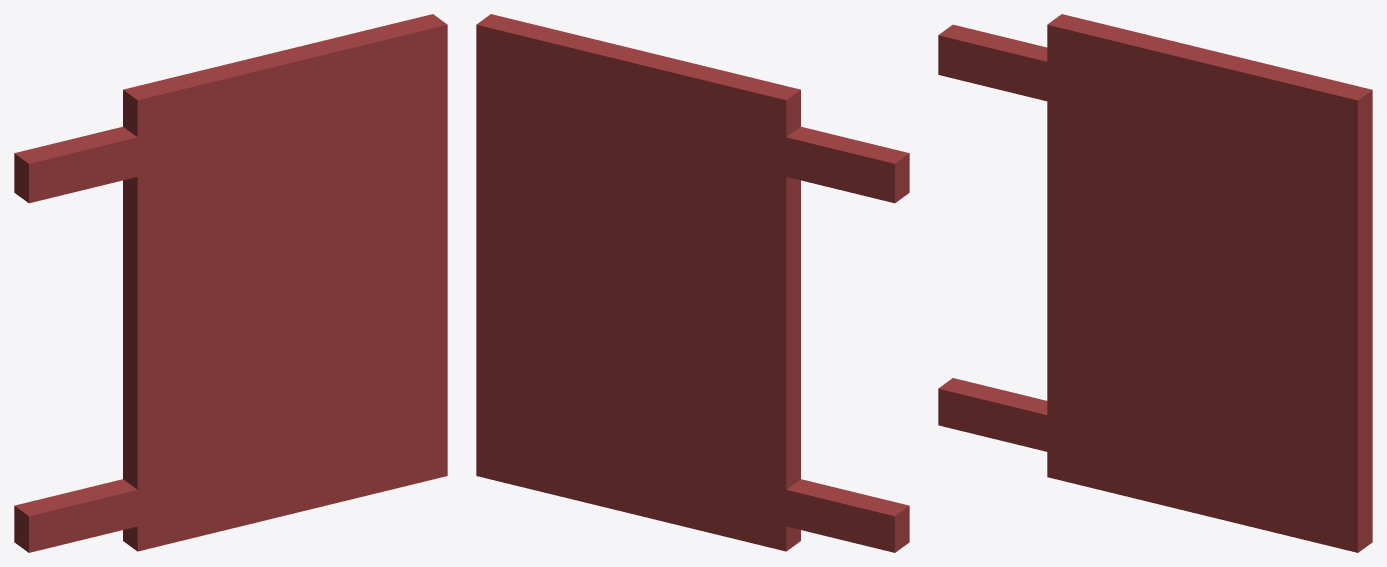
File: 7_Light_Nigel.fbx
3 renders of one model, left to right at view 1: azimuth 30°, elevation 25°; view 2: azimuth 150°, elevation 25°; view 3: azimuth 330°, elevation 25°, orthographic.
Visible parts, largest first — view 1: pasted__pCube32; view 2: pasted__pCube32; view 3: pasted__pCube32.
Boxes of the visible parts, x1,y1,x2,y2 form: pasted__pCube32: (14, 14, 447, 552); pasted__pCube32: (476, 14, 909, 552); pasted__pCube32: (938, 14, 1372, 552).
Bounding box in the file's own units: 1.02 × 1.05 × 0.0614.
